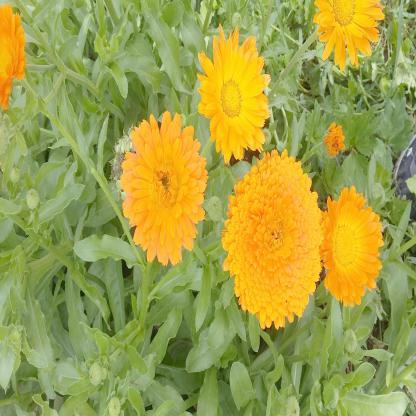marigold: (229, 158, 318, 323), (126, 122, 198, 263), (202, 27, 272, 156), (324, 197, 380, 301), (315, 0, 385, 69)
